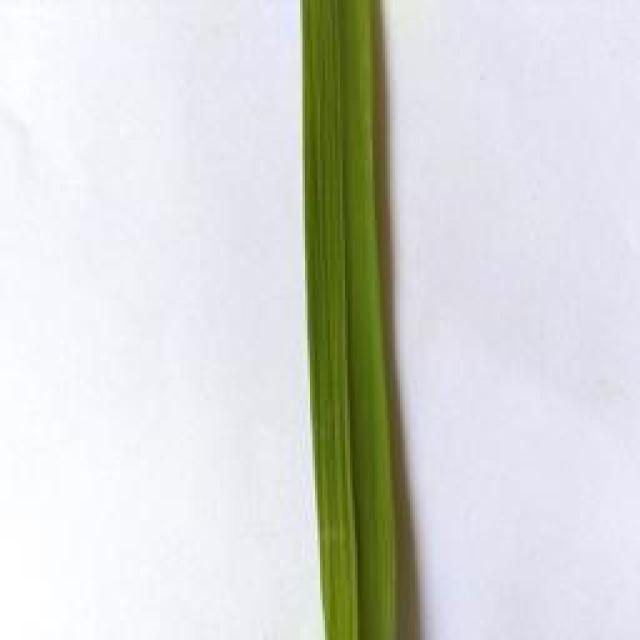Healthy-Plant: (286, 0, 411, 640)
